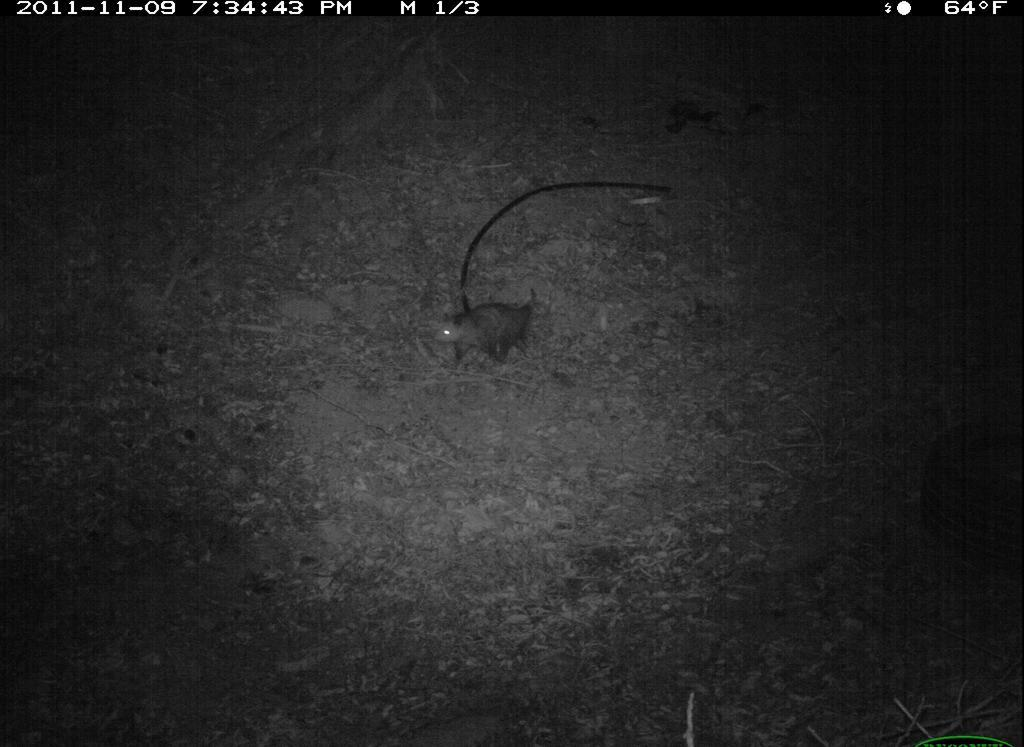opossum: (425, 286, 550, 372)
